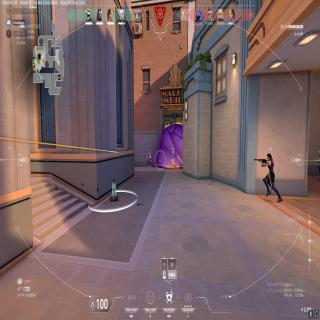ENEMY-BODY: (146, 151, 152, 169)
ENEMY-HEAD: (148, 152, 150, 156)
